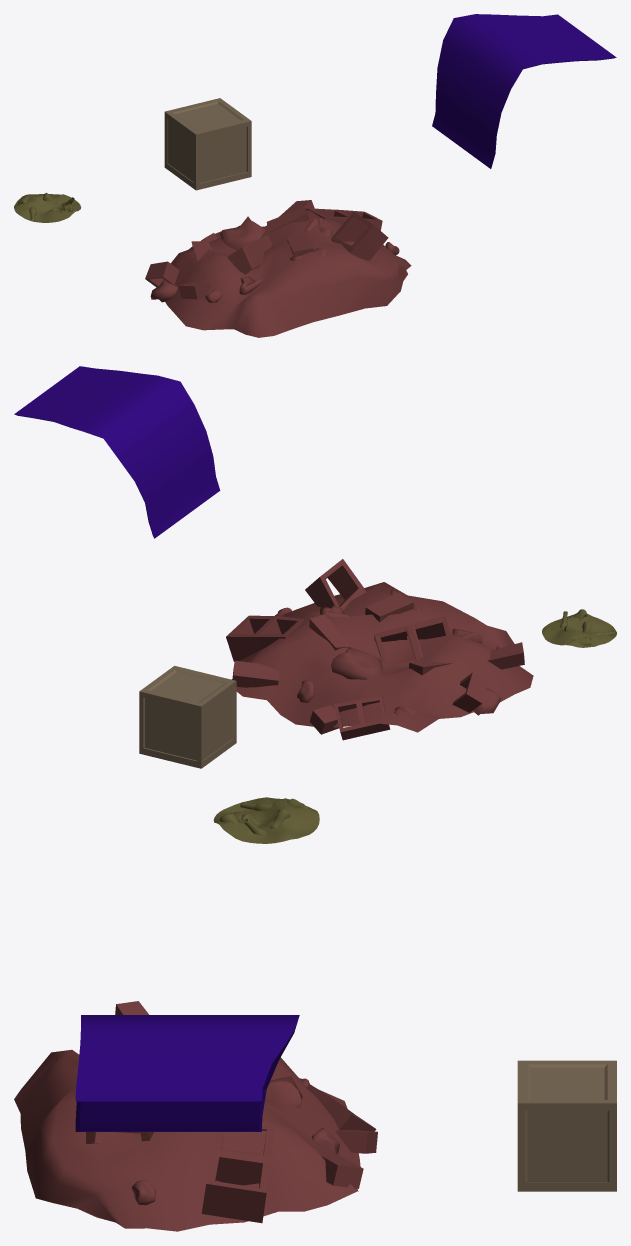
File: MiscAssets_low.fbx
3 views of the same model, one above another, from view 1: azimuth 30°, elevation 25°; view 2: azimuth 150°, elevation 25°; view 3: azimuth 270°, elevation 25° (orthographic). The views are drawn at different scales.
Parts seen in each view (by area): view 1: RubblePile_low, Tarp_UV, crate_low, Trash_low; view 2: RubblePile_low, Tarp_UV, crate_low, Trash_low; view 3: RubblePile_low, Tarp_UV, crate_low, Trash_low.
Part boxes in pixels (box(x1,y1,x2,y2)): RubblePile_low: box(145, 200, 411, 337); Tarp_UV: box(432, 14, 616, 168); crate_low: box(164, 98, 251, 190); Trash_low: box(14, 192, 81, 222); RubblePile_low: box(226, 559, 533, 740); Tarp_UV: box(14, 366, 220, 538); crate_low: box(139, 665, 236, 768); Trash_low: box(542, 609, 616, 647); RubblePile_low: box(14, 1001, 377, 1231); Tarp_UV: box(75, 1015, 299, 1131); crate_low: box(517, 1060, 616, 1191); Trash_low: box(213, 797, 319, 843).
Bounding box in the file's own units: 5.41 × 1.93 × 3.33.
